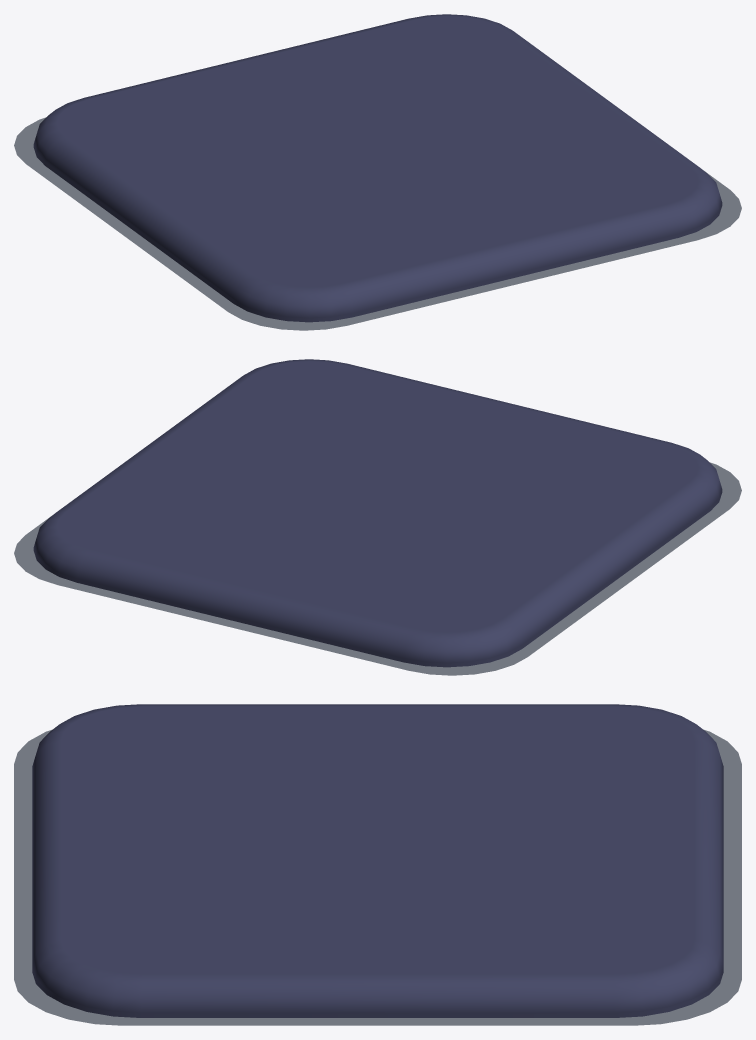
The model's file is Holder.fbx.
3 views of the same model, one above another, from view 1: azimuth 30°, elevation 25°; view 2: azimuth 150°, elevation 25°; view 3: azimuth 270°, elevation 25° (orthographic). The views are drawn at different scales.
Visible parts, largest first — view 1: Holder; view 2: Holder; view 3: Holder.
Part boxes in pixels (left/top/right/bottom): Holder: left=14, top=14, right=741, bottom=330; Holder: left=14, top=359, right=741, bottom=675; Holder: left=14, top=704, right=741, bottom=1025.
Bounding box in the file's own units: 100 × 5 × 100.
